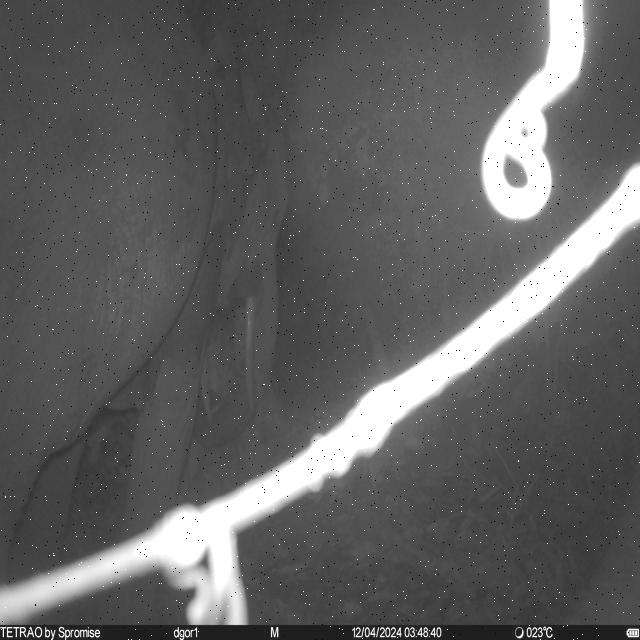elephant: (1, 2, 290, 626)
tusk: (244, 294, 256, 412), (201, 349, 214, 426)
